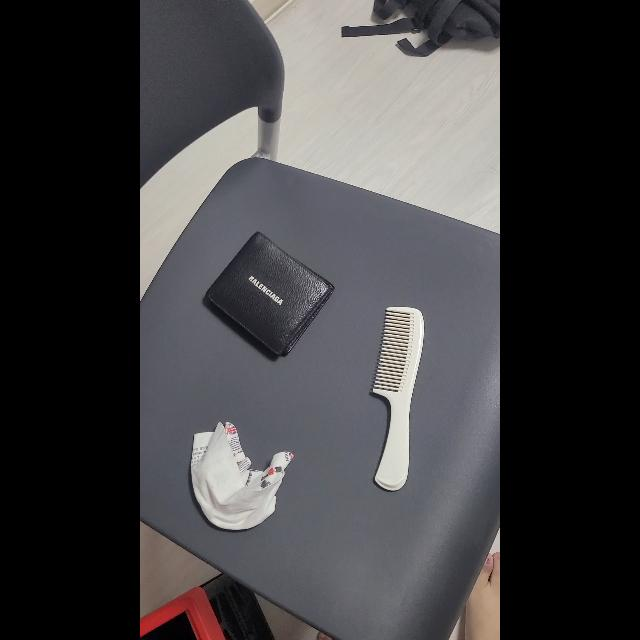COMB: (372, 307, 423, 491)
Glasses cleaning cloth: (190, 422, 294, 530)
WALLET: (206, 232, 334, 356)
